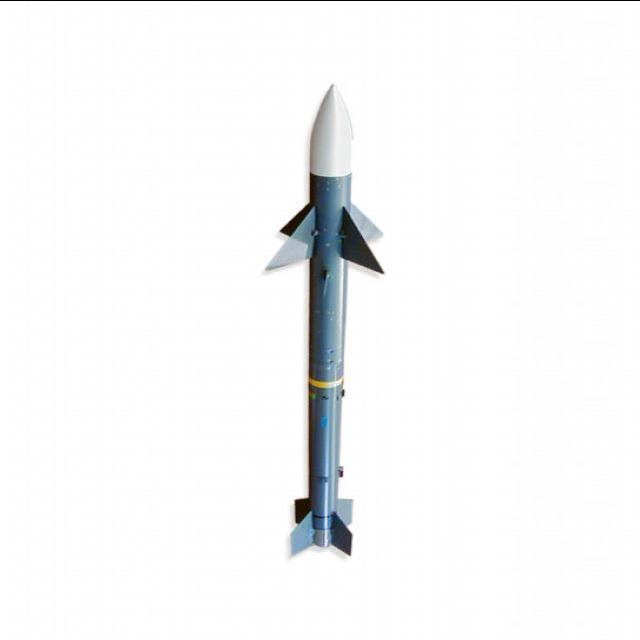Missile: (253, 68, 394, 566)
